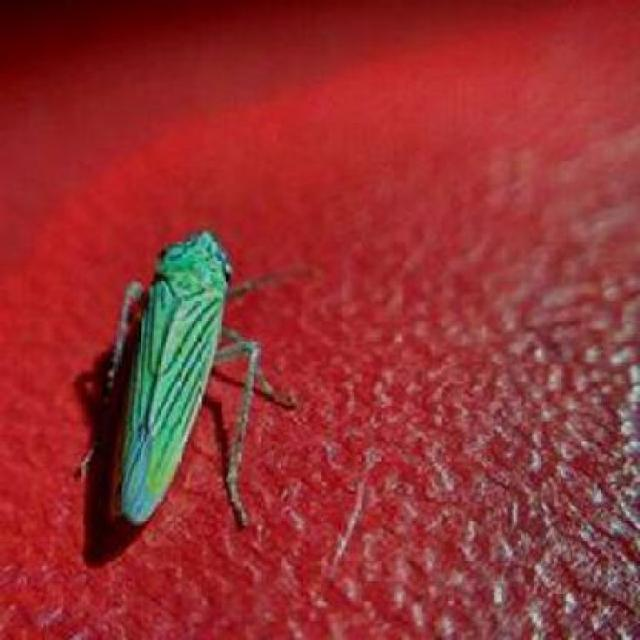green-leafhopper: (109, 231, 265, 526)
